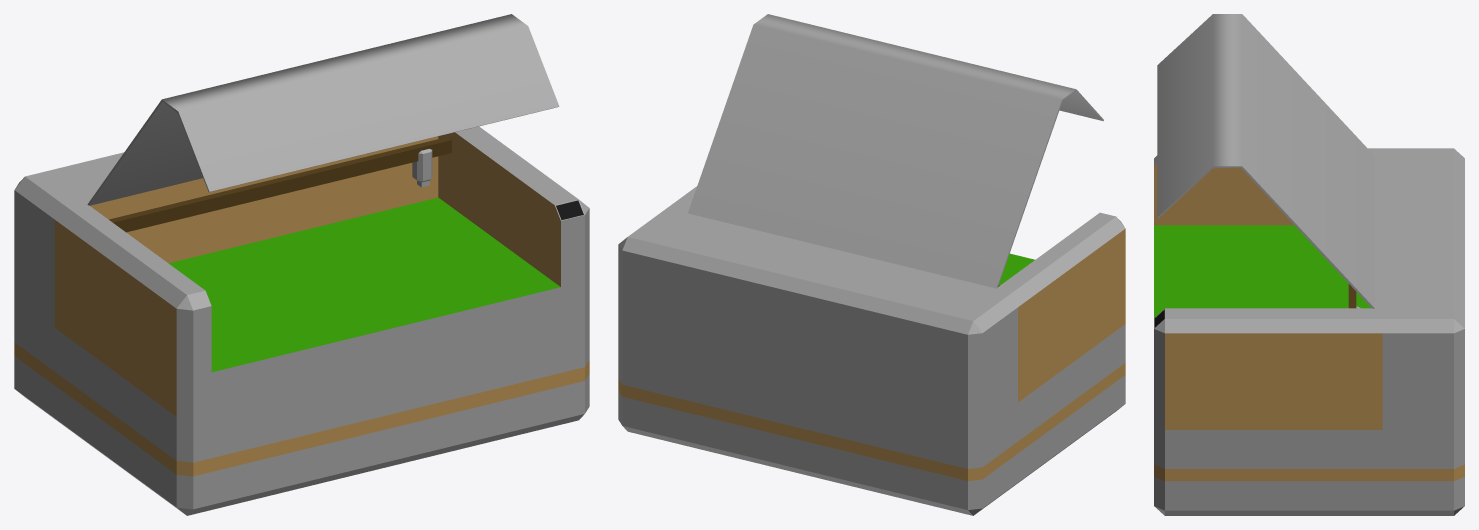
The model's file is LaserCutter.fbx.
3 renders of one model, left to right at view 1: azimuth 30°, elevation 25°; view 2: azimuth 150°, elevation 25°; view 3: azimuth 270°, elevation 25°, orthographic. The views are drawn at different scales.
Visible parts, largest first — view 1: pCube152, pCube155, pCube153; view 2: pCube152, pCube155; view 3: pCube152, pCube155.
Boxes of the visible parts, box(x1,y1,x2,y2) form: pCube152: box(14, 126, 589, 515); pCube155: box(87, 14, 559, 205); pCube153: box(109, 137, 451, 232); pCube152: box(618, 186, 1125, 515); pCube155: box(688, 14, 1103, 288); pCube152: box(1154, 148, 1464, 515); pCube155: box(1157, 14, 1374, 308).
Bounding box in the file's own units: 9.56 × 8.42 × 6.99.
